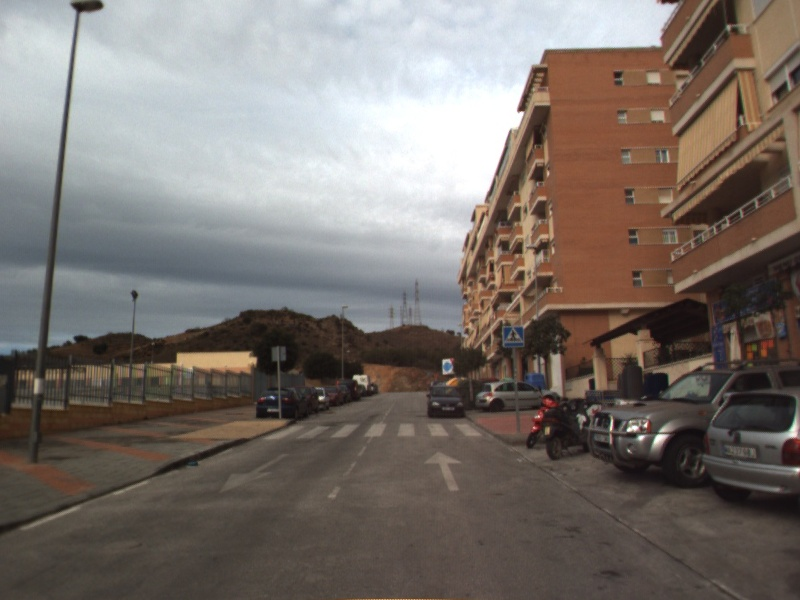STRAIGHT: (422, 449, 464, 493)
